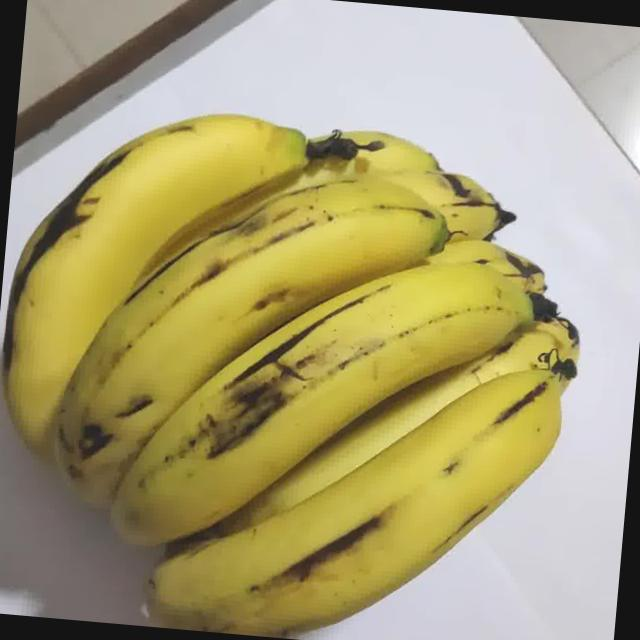banana_pacche: (0, 6, 610, 640)
